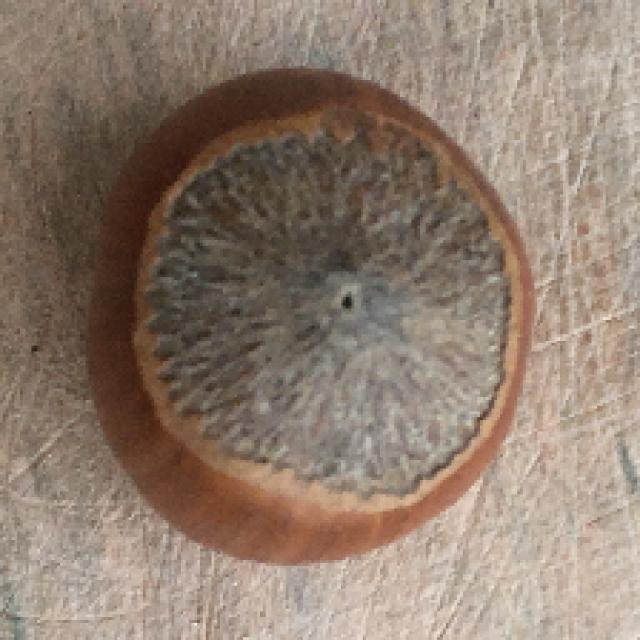qualityHazelnut: (84, 67, 534, 572)
